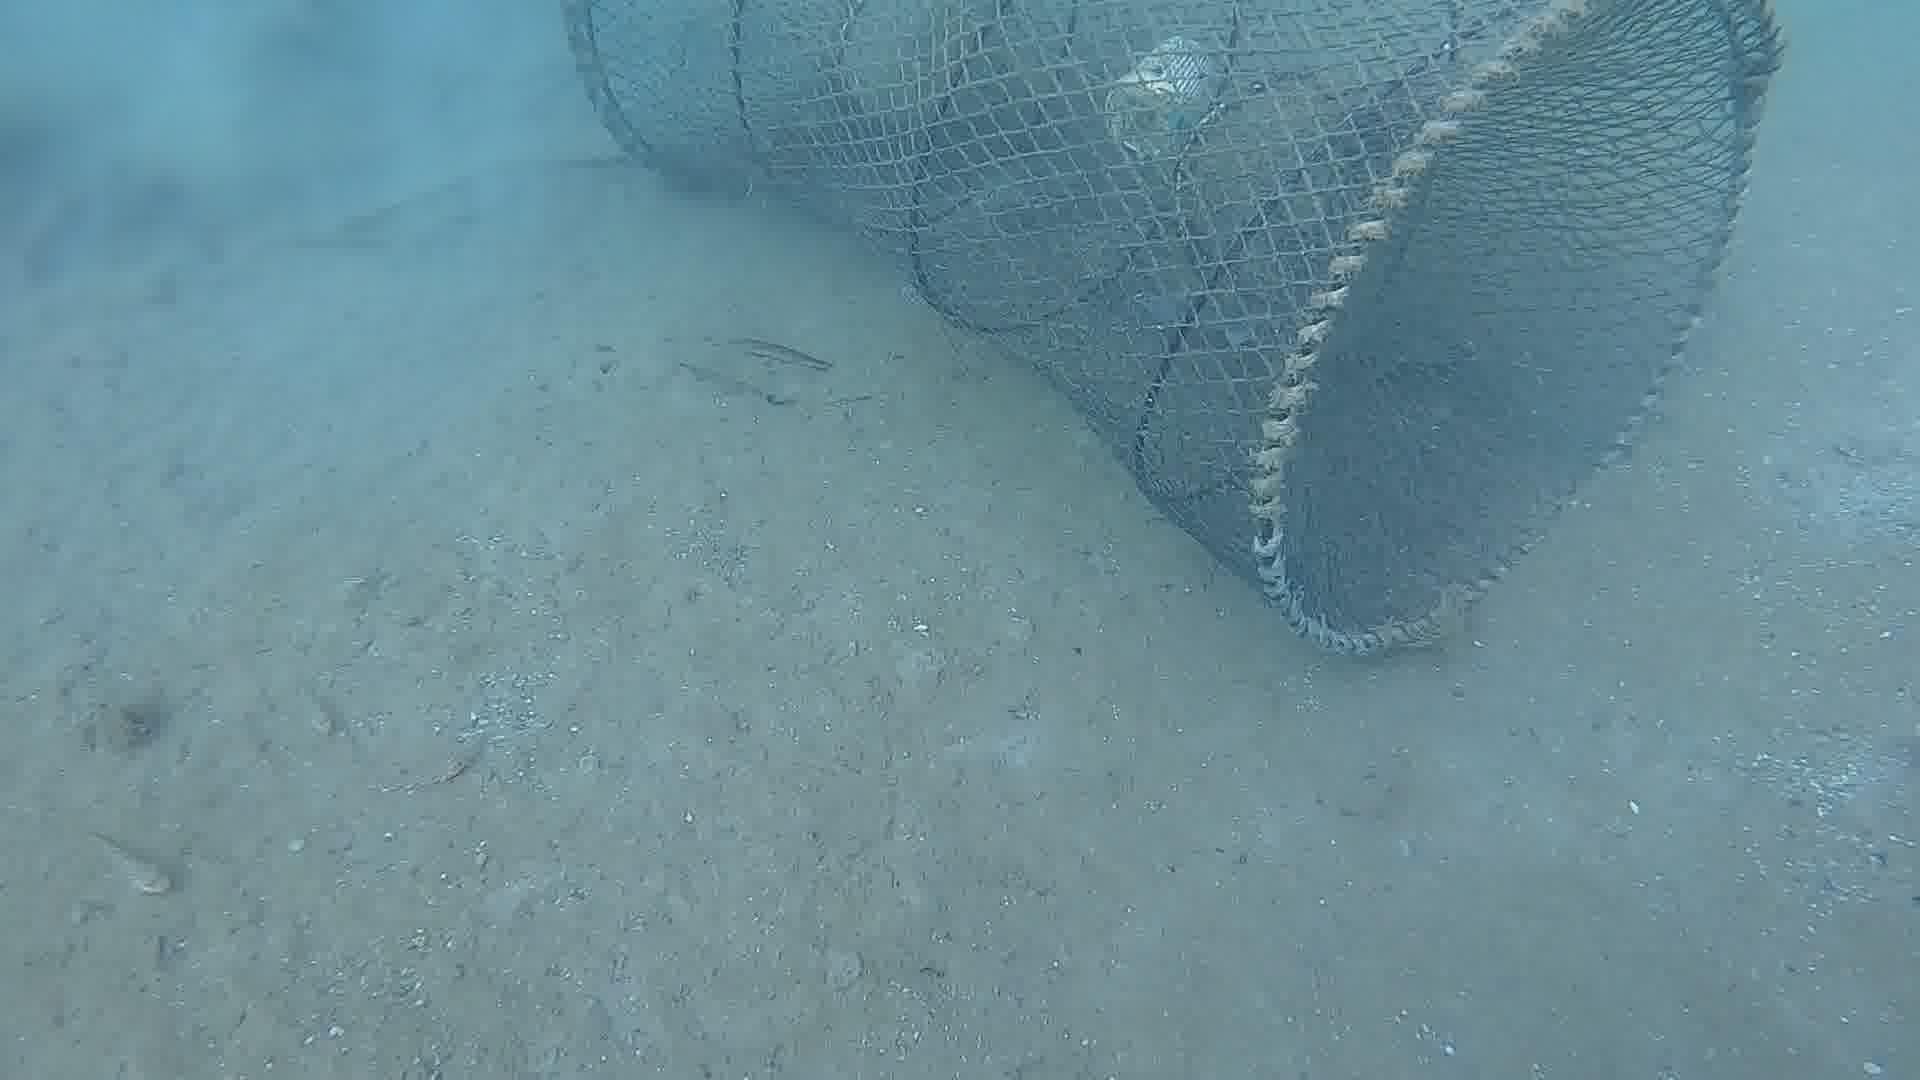spring fish trap: (556, 0, 1784, 654)
